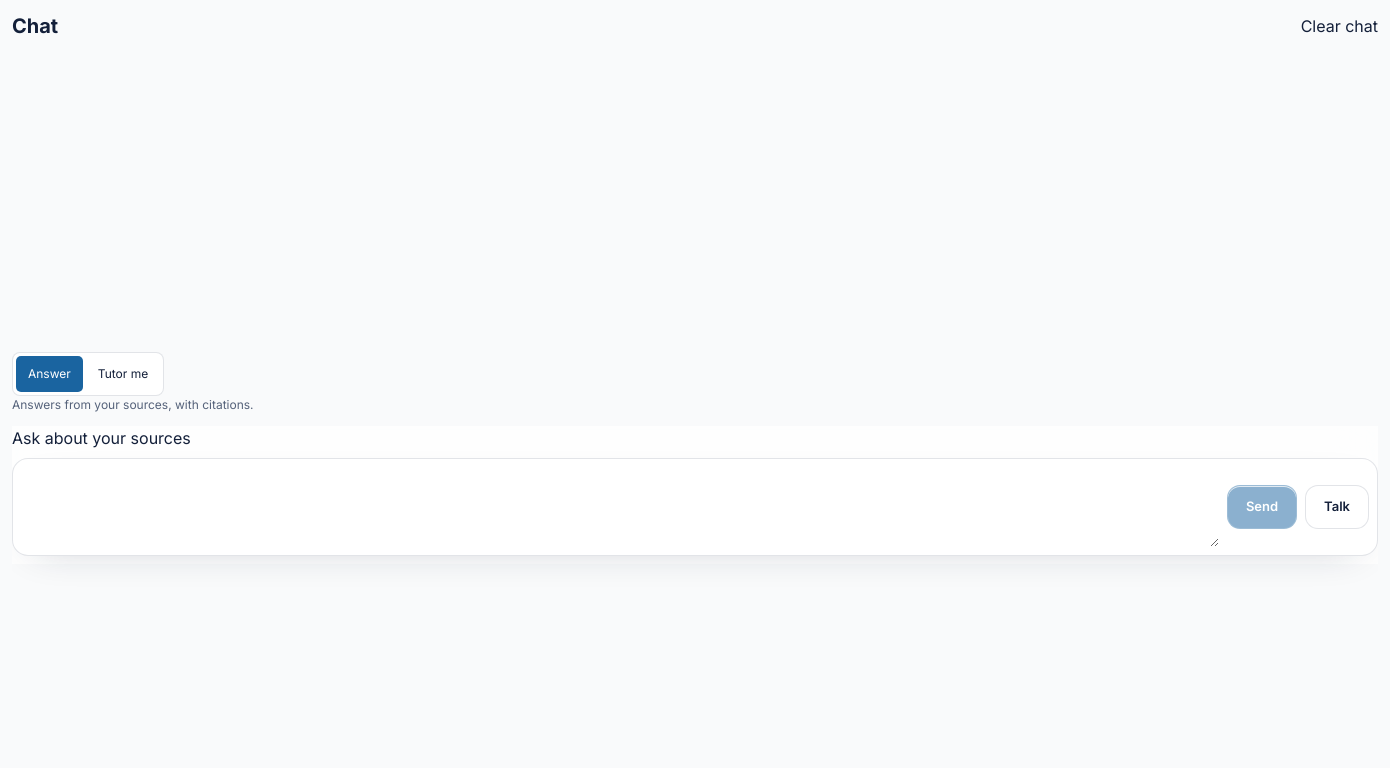
Test: releases the microphone on unmount change
Click the button "Talk". click: coordinates (1337, 507)
box: x1=1305 y1=485 x2=1369 y2=529
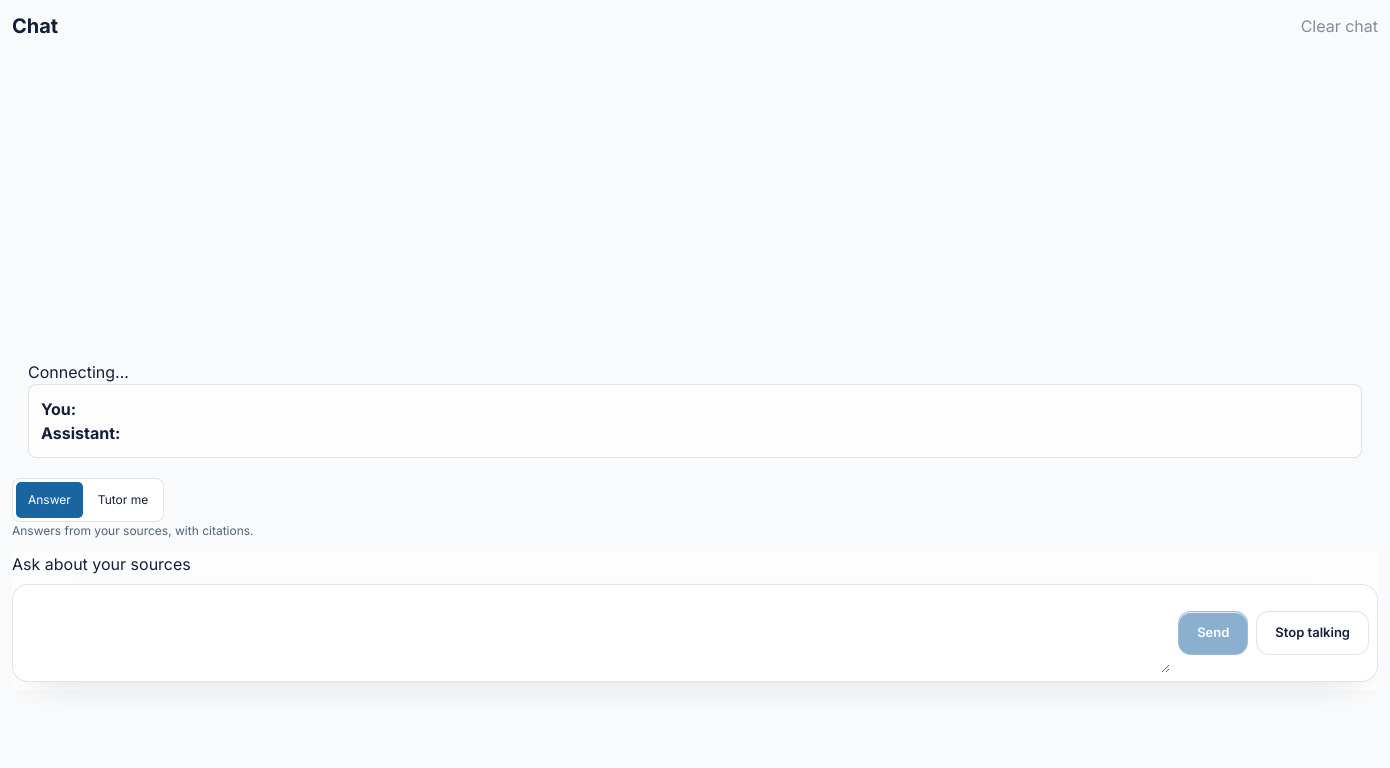
Expected: the message reads "Connecting...", x1=28 y1=362 x2=129 y2=382
